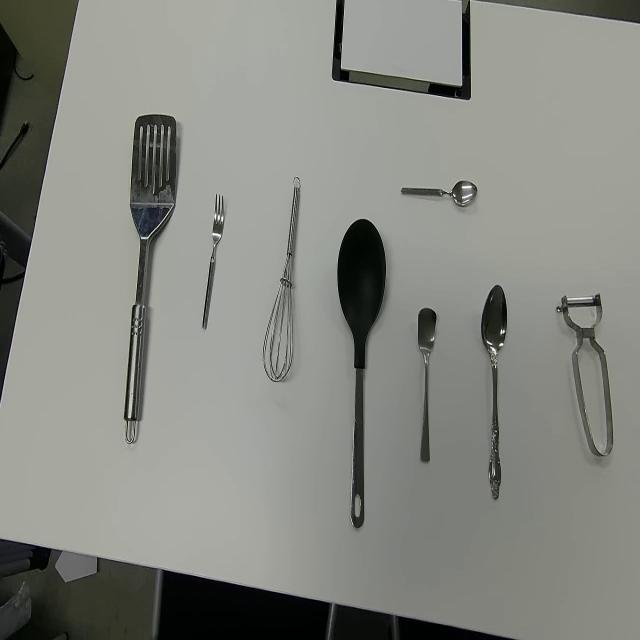Desert-Spoon: (480, 282, 508, 502)
Dinner-Fork: (202, 192, 225, 332)
Peeler: (554, 290, 614, 458)
Serving-Spoon: (123, 111, 178, 446), (336, 216, 388, 532)
Tea-Spoon: (417, 304, 438, 465), (399, 178, 479, 209)
Whisk: (262, 175, 302, 383)
